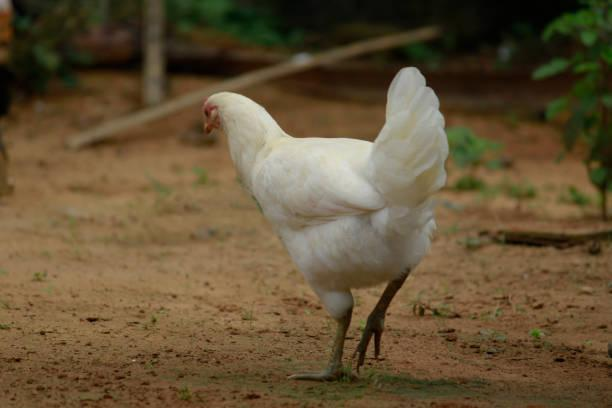AbNormal: (182, 73, 449, 374)
